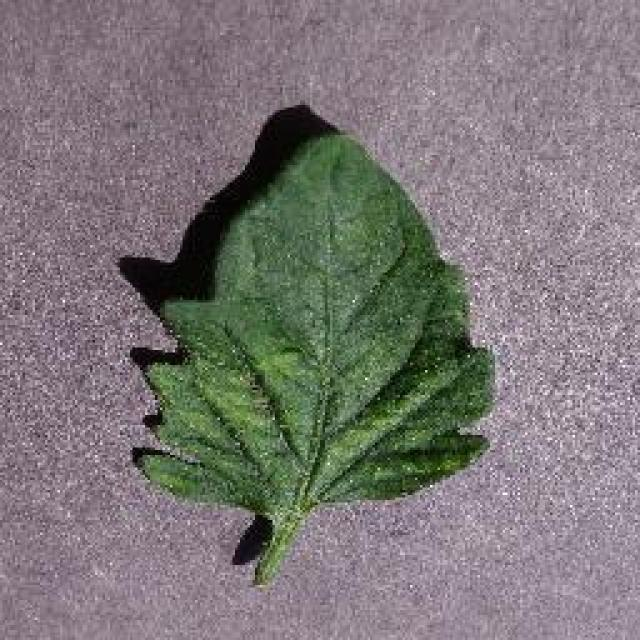Tomato spider mites leaf: (140, 126, 500, 522)
